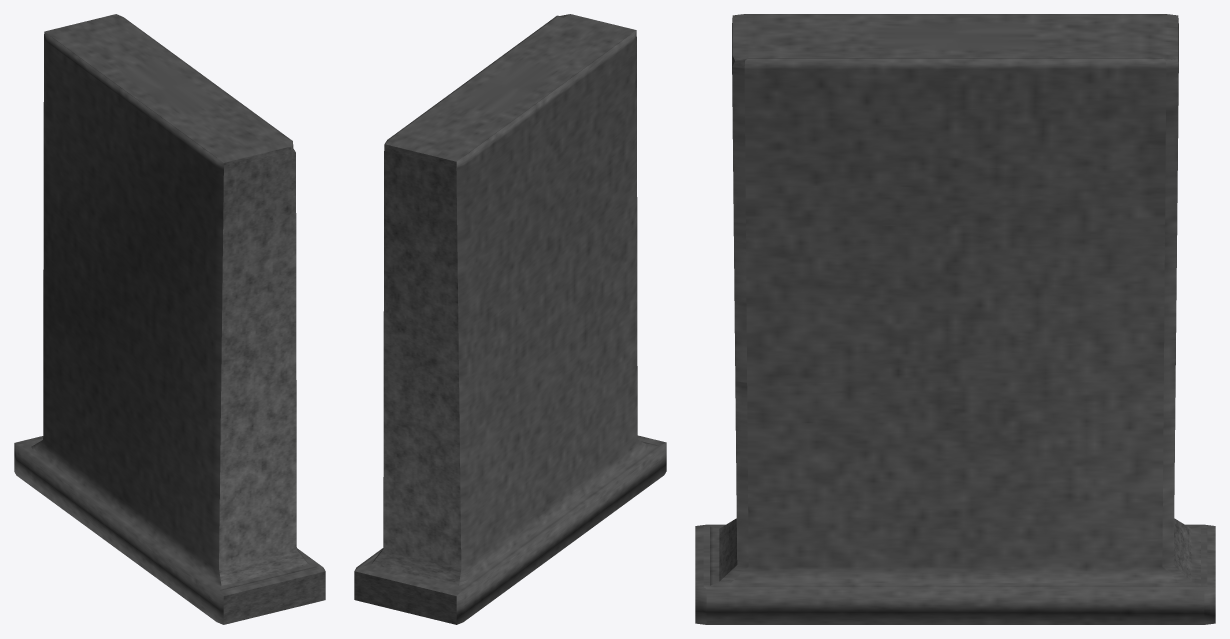
Rendered from tombstone2.fbx.
3 views of the same model, side by side, from view 1: azimuth 30°, elevation 25°; view 2: azimuth 150°, elevation 25°; view 3: azimuth 270°, elevation 25° (orthographic). The views are drawn at different scales.
Visible parts, largest first — view 1: Cube; view 2: Cube; view 3: Cube.
Boxes of the visible parts, box(x1,y1,x2,y2) form: Cube: box(14, 14, 325, 624); Cube: box(354, 14, 666, 624); Cube: box(695, 14, 1215, 624).
Size of the model in its own units: 48.77 by 196 by 166.
1 material, 1 textured.
